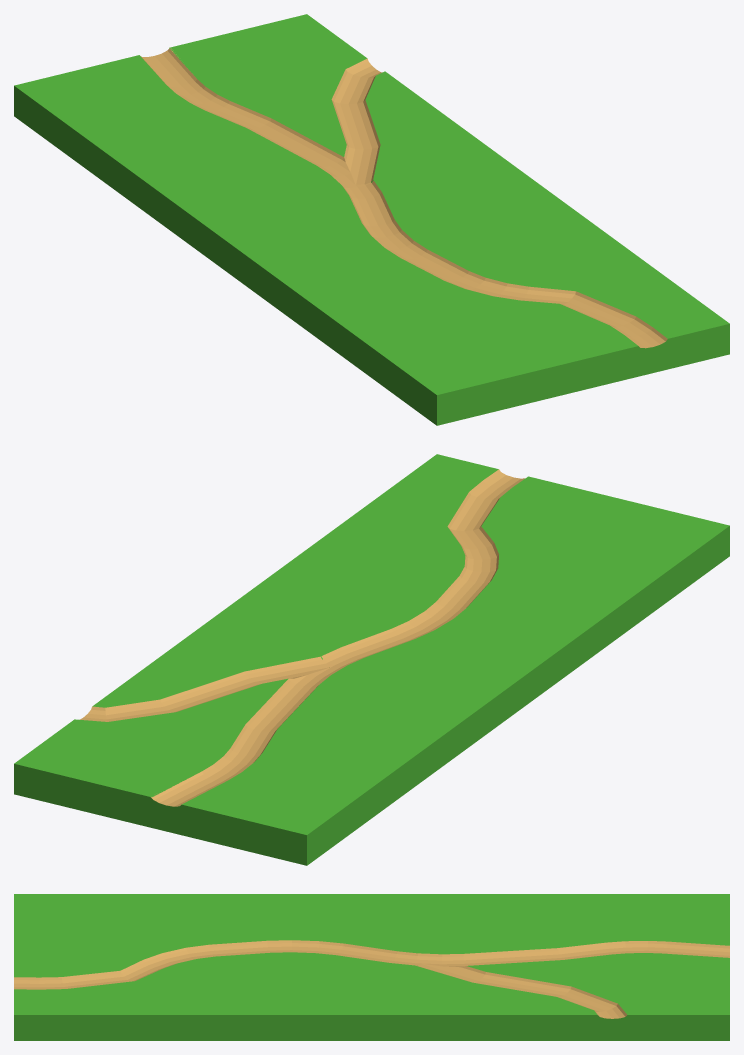
The model's file is way3.fbx.
3 renders of one model, top to bottom at view 1: azimuth 30°, elevation 25°; view 2: azimuth 150°, elevation 25°; view 3: azimuth 270°, elevation 25°, orthographic. The views are drawn at different scales.
Parts seen in each view (by area): view 1: ground.003; view 2: ground.003; view 3: ground.003.
Part boxes in pixels (bbox=[...]): ground.003: bbox=[14, 14, 729, 425]; ground.003: bbox=[14, 454, 729, 865]; ground.003: bbox=[14, 894, 729, 1040].
Bounding box in the file's own units: 2000 × 200 × 5000.
